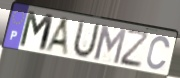A: (43, 16, 70, 58)
C: (145, 35, 171, 72)
M: (17, 9, 56, 54), (93, 24, 129, 66)
U: (70, 19, 102, 60)
Z: (118, 29, 150, 70)
